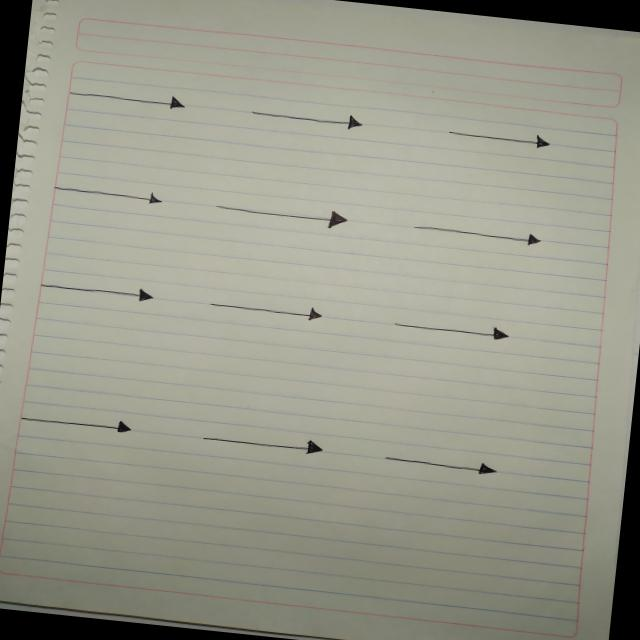arrow_line_right: (200, 190, 372, 240), (189, 420, 341, 468), (372, 441, 510, 489), (399, 212, 548, 254), (198, 290, 342, 332), (29, 270, 168, 308), (240, 99, 390, 134), (45, 174, 176, 214), (436, 118, 560, 160), (386, 310, 522, 348), (61, 78, 196, 116), (12, 404, 138, 440)
